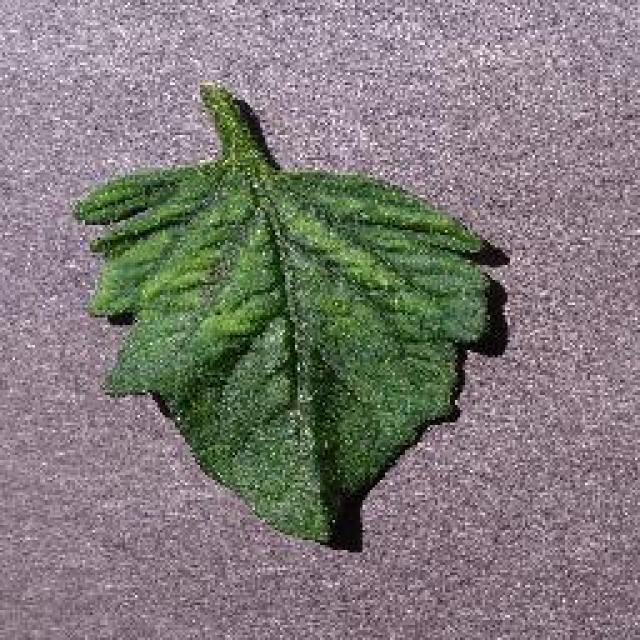Tomato spider mites leaf: (74, 149, 496, 546)
